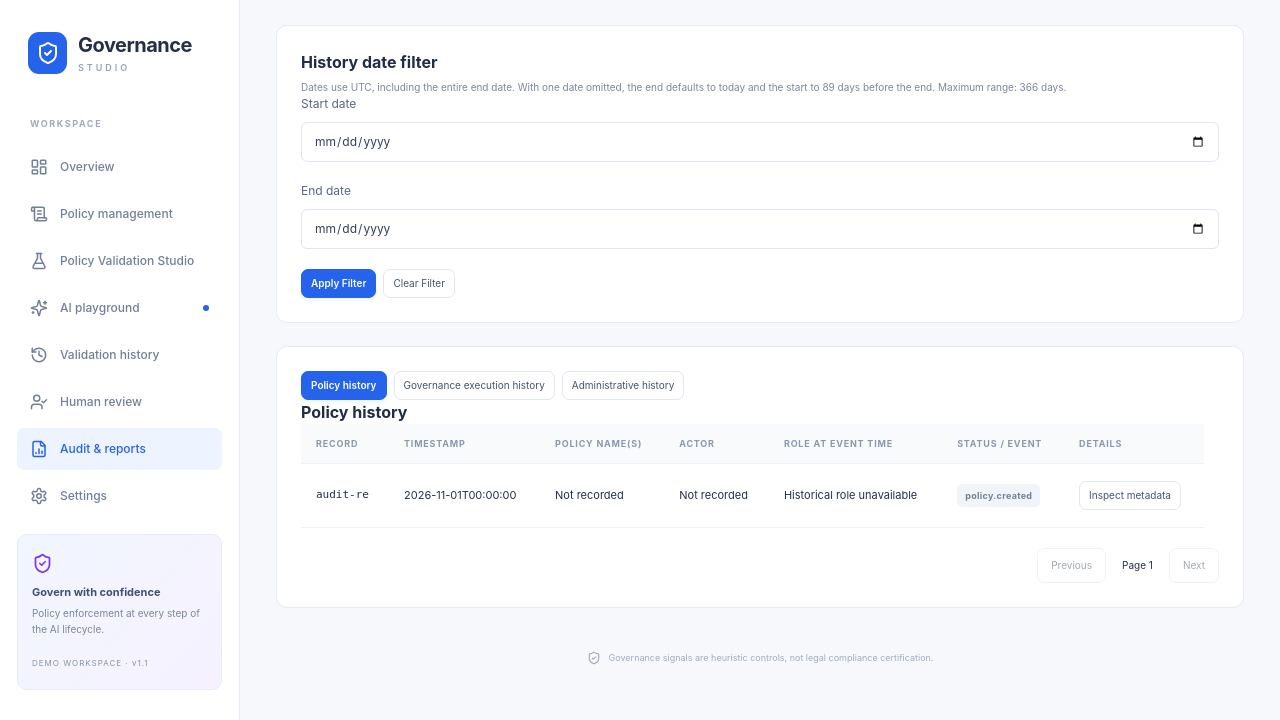
separate audit histories › loads policy and governance histories independently and clears old metadata
The width and height of the screenshot is (1280, 720).
(page scrolled)
Check: the text "policy.created" is shown, box top-left (957, 484), bottom-right (1040, 507)
What coordinates should you click on to do the following:
click the button "Governance execution history"
I would click on:
 (474, 385)
Its box is top-left (394, 371), bottom-right (555, 400).
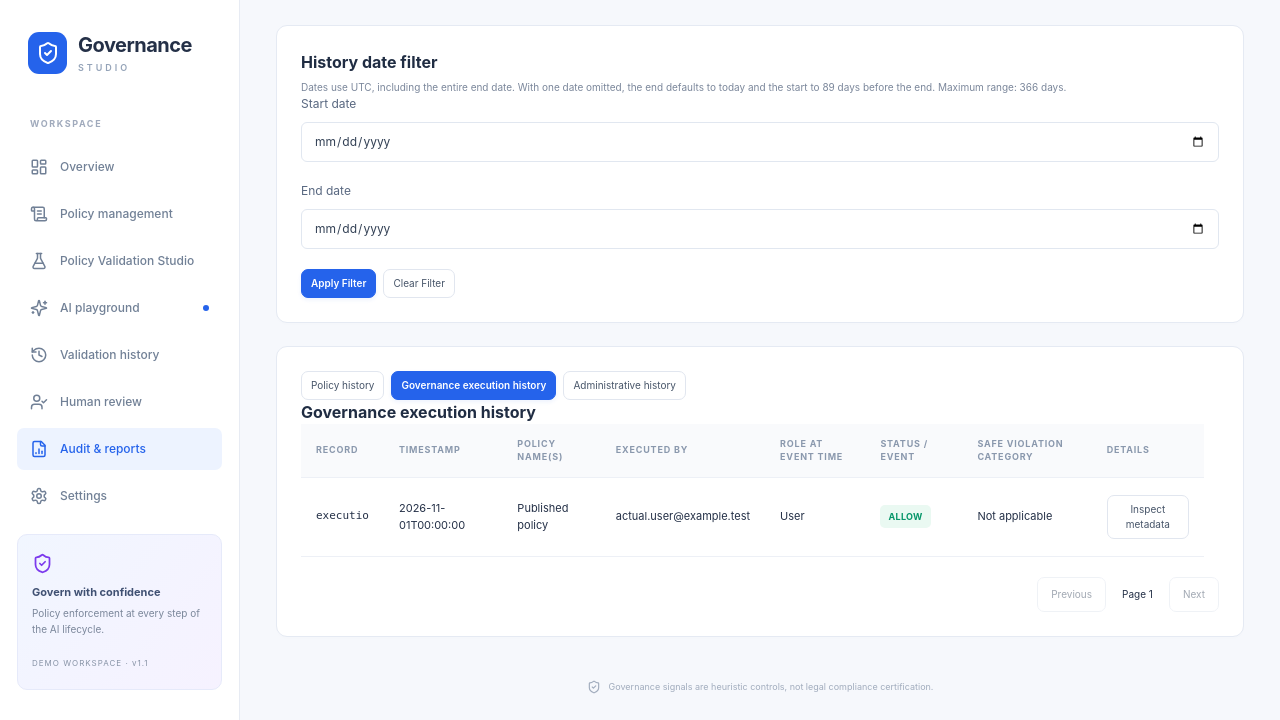
Check: the text "ALLOW" is shown, box top-left (880, 505), bottom-right (931, 528)
Check: the text "actual.user@example.test" is shown, box top-left (601, 477), bottom-right (765, 556)
Check: the text "Published policy" is shown, box top-left (502, 477), bottom-right (601, 556)
What coordinates should you click on to do the following:
click the button "Administrative history"
I would click on:
 (625, 385)
Its box is top-left (563, 371), bottom-right (686, 400).
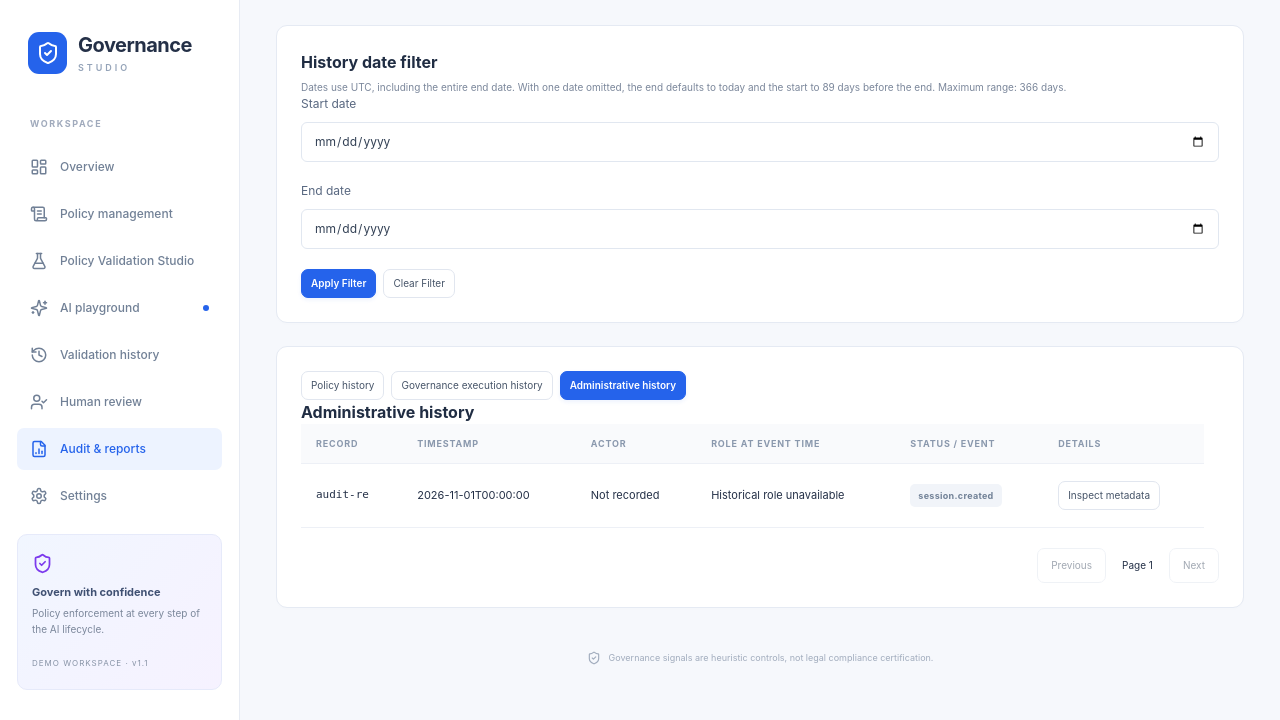
Check: the text "session.created" is shown, box top-left (910, 484), bottom-right (1002, 507)
Check: the text "governance.generate.ALLOW" is gone
